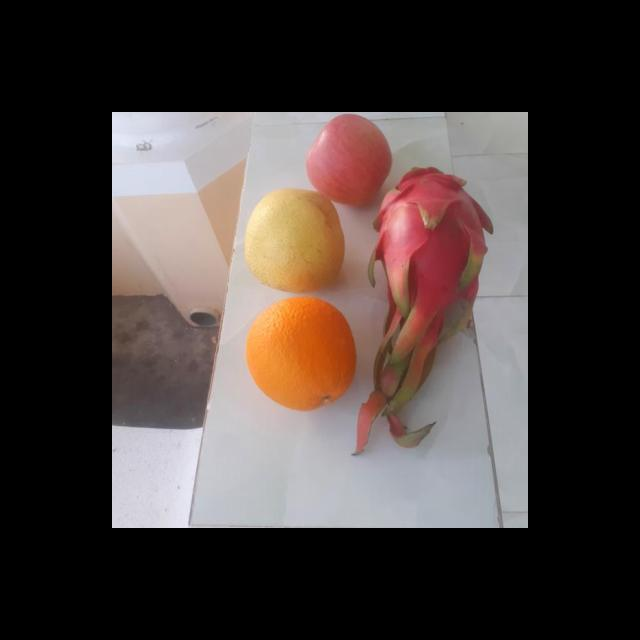apple: (304, 112, 398, 206)
orange: (246, 298, 360, 409)
pear: (240, 190, 352, 292)
pitaya: (371, 166, 498, 325)
